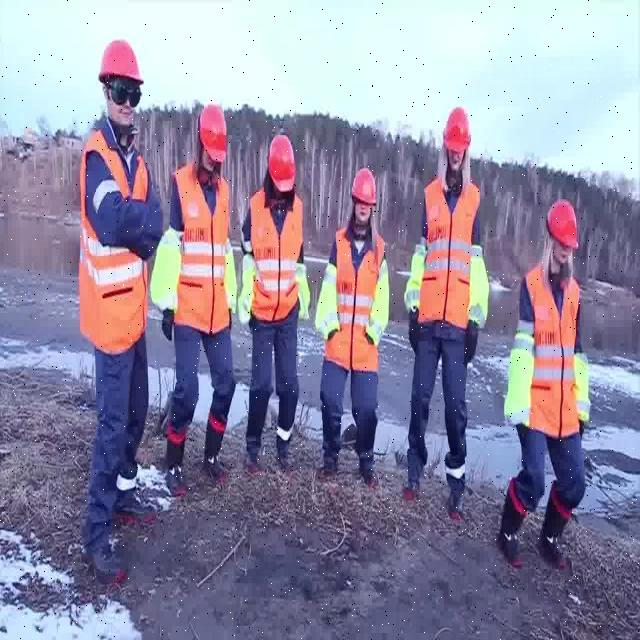Hard_hat: (255, 135, 298, 196), (98, 36, 148, 88), (539, 198, 587, 251), (193, 103, 231, 168), (342, 163, 386, 214), (438, 106, 476, 155)
Person: (79, 36, 161, 576), (497, 197, 595, 568), (402, 106, 490, 503), (168, 100, 239, 479), (321, 169, 395, 480), (248, 130, 310, 474), (536, 196, 584, 253)
Vest: (83, 135, 151, 340), (172, 162, 238, 329), (518, 270, 584, 433), (419, 178, 484, 323), (333, 228, 389, 363), (246, 188, 301, 322)
